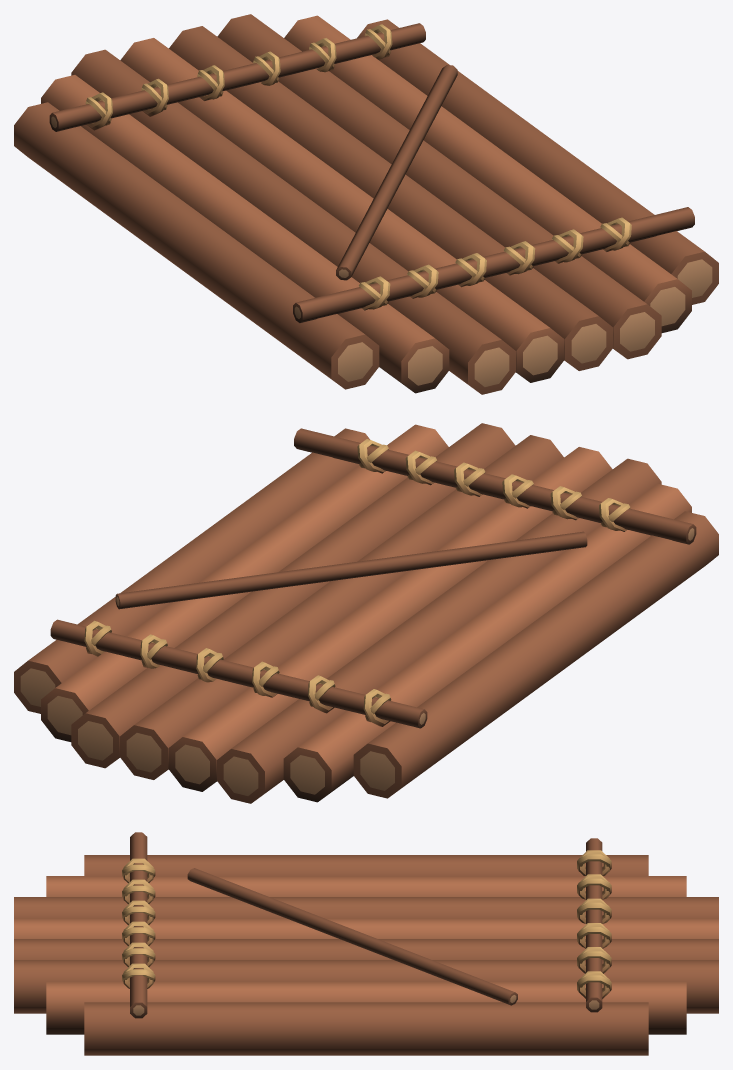
The model's file is wooden raft.fbx.
3 renders of one model, top to bottom at view 1: azimuth 30°, elevation 25°; view 2: azimuth 150°, elevation 25°; view 3: azimuth 270°, elevation 25°, orthographic. The views are drawn at different scales.
Parts seen in each view (by area): view 1: wooden_raft, rowing; view 2: wooden_raft, rowing; view 3: wooden_raft, rowing.
Boxes of the visible parts, x1,y1,x2,y2 form: wooden_raft: (14, 14, 718, 394); rowing: (336, 65, 457, 280); wooden_raft: (14, 423, 718, 803); rowing: (115, 531, 587, 609); wooden_raft: (14, 832, 718, 1055); rowing: (187, 868, 517, 1005).
Bounding box in the file's own units: 224 × 39.84 × 393.
Materials: 1 (1 with a texture image).
